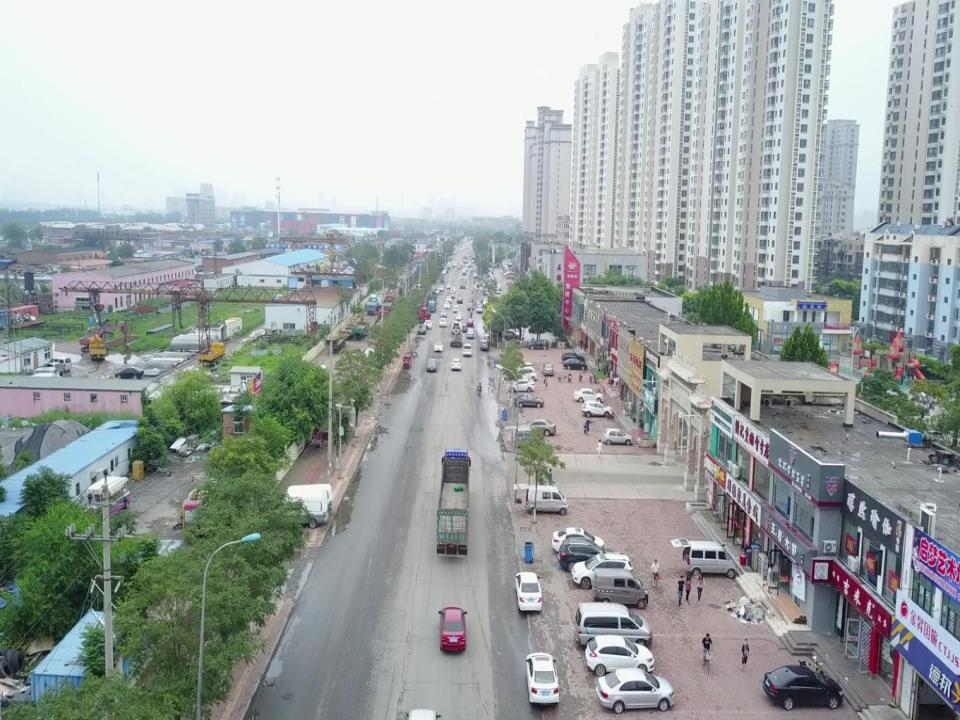car: (594, 666, 676, 712), (762, 664, 844, 710), (584, 634, 656, 677), (570, 553, 633, 590), (524, 651, 561, 708), (557, 538, 615, 572), (551, 526, 606, 559), (438, 605, 468, 653), (514, 570, 543, 614), (522, 418, 557, 437), (580, 399, 613, 417), (602, 427, 633, 446), (573, 387, 604, 404), (513, 393, 544, 408), (114, 366, 144, 379), (508, 380, 535, 393), (512, 368, 537, 381), (562, 358, 588, 370), (560, 351, 584, 364), (41, 362, 63, 376), (512, 362, 536, 373), (528, 338, 548, 351), (502, 328, 522, 341), (450, 357, 462, 371), (426, 357, 437, 372), (463, 342, 472, 358), (542, 364, 554, 375), (434, 340, 444, 352), (480, 337, 488, 351), (466, 327, 475, 339), (438, 317, 447, 328), (466, 317, 474, 328), (452, 304, 460, 312), (466, 302, 474, 310), (476, 305, 483, 313), (440, 309, 447, 316), (455, 312, 463, 318), (444, 301, 450, 309)
truck: (435, 446, 471, 560), (366, 279, 398, 316), (196, 341, 225, 367), (399, 305, 431, 325), (88, 334, 107, 362), (372, 309, 389, 334), (379, 293, 395, 314), (426, 300, 437, 312)
van: (574, 600, 653, 648), (676, 539, 738, 580), (592, 566, 648, 610), (274, 492, 329, 529), (279, 483, 334, 514), (523, 484, 568, 516), (515, 426, 545, 448), (47, 356, 73, 373), (31, 366, 57, 381)
